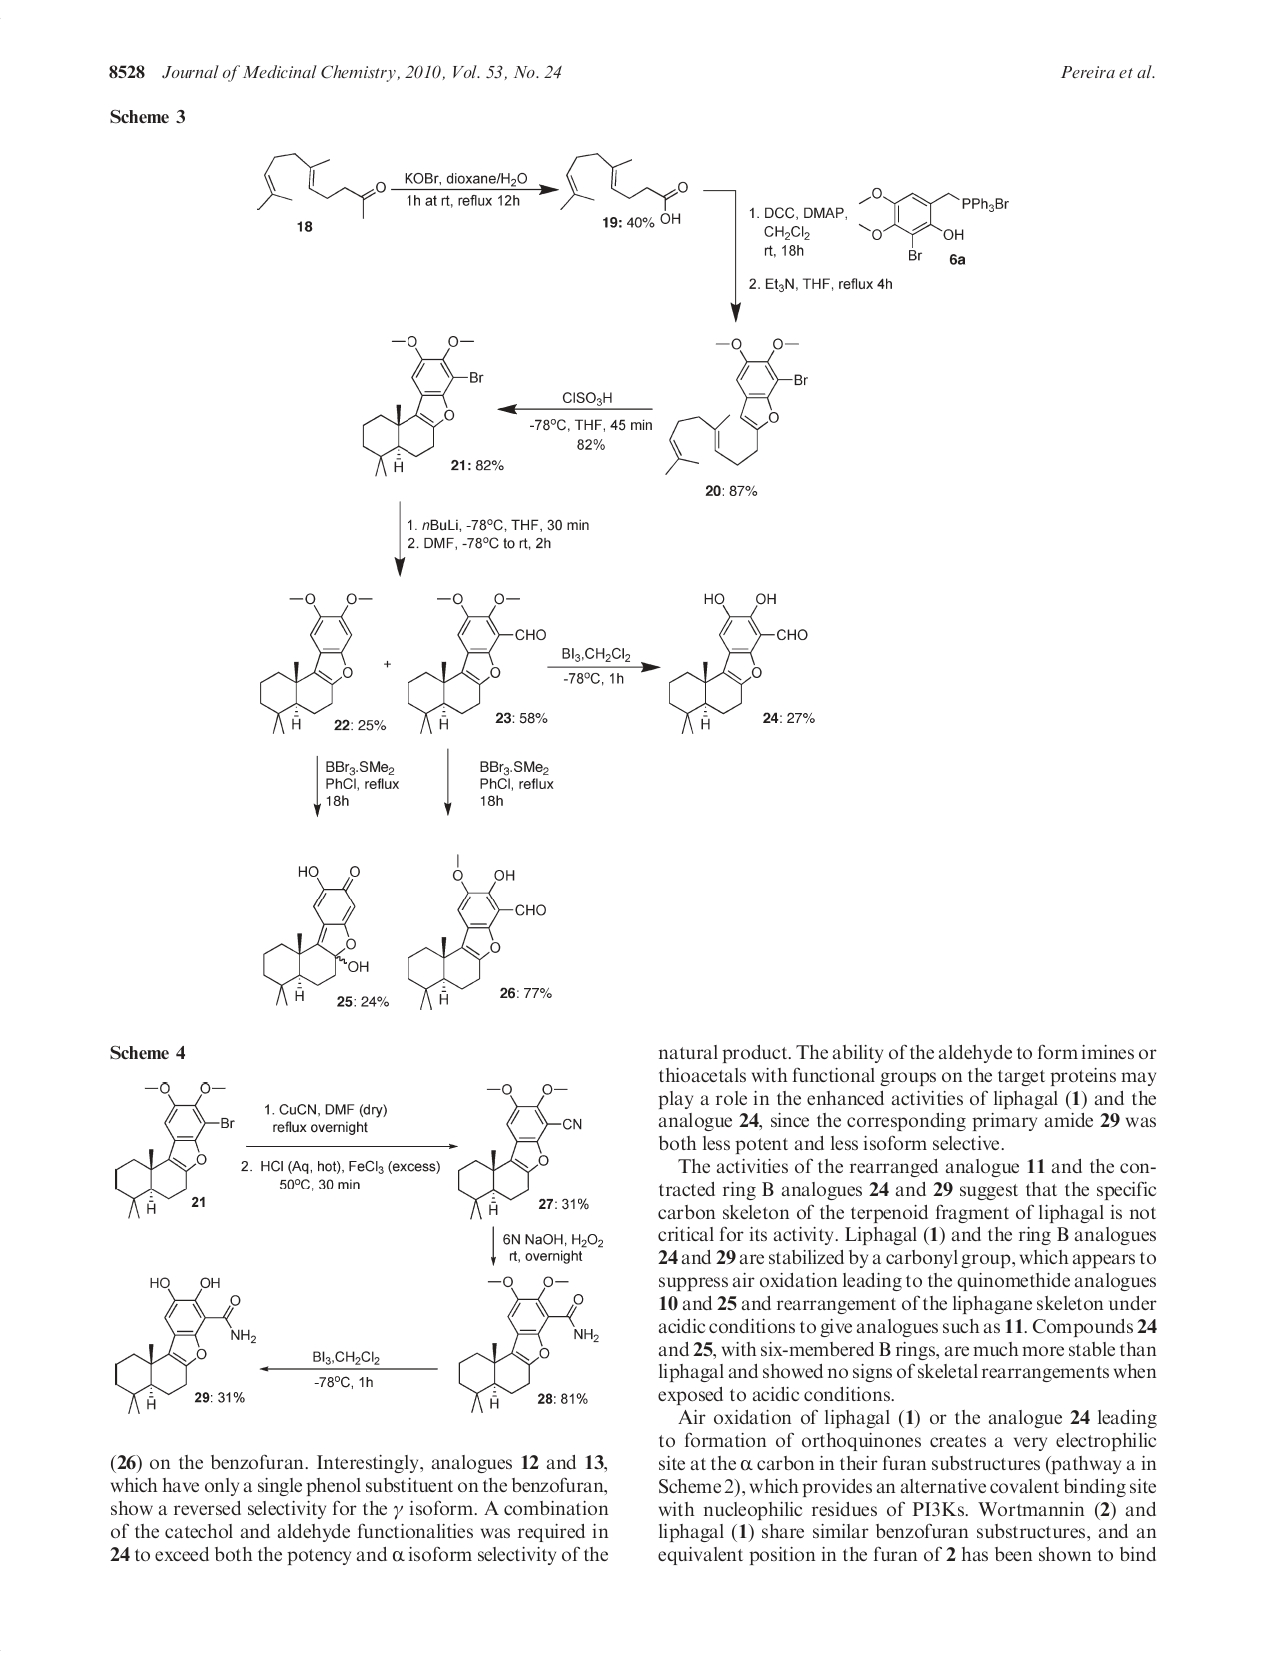exist_molecular: (406, 848, 551, 1013), (112, 1271, 258, 1418), (668, 588, 811, 735), (662, 336, 810, 479), (406, 590, 548, 735), (457, 1273, 602, 1415), (257, 589, 380, 737), (360, 332, 485, 477), (456, 1083, 584, 1221), (113, 1081, 235, 1220), (261, 864, 370, 1007), (852, 185, 1011, 262), (559, 150, 692, 226), (255, 149, 388, 221)
